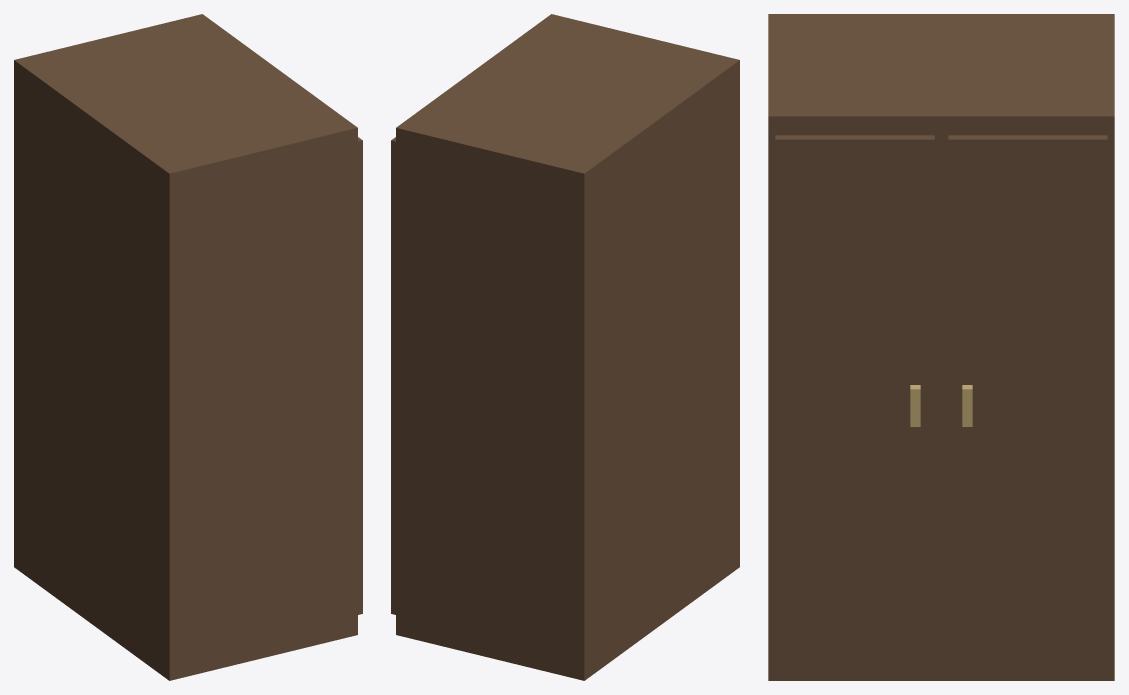
Rendered from prop_wardrobe.fbx.
3 views of the same model, side by side, from view 1: azimuth 30°, elevation 25°; view 2: azimuth 150°, elevation 25°; view 3: azimuth 270°, elevation 25° (orthographic). The views are drawn at different scales.
Visible parts, largest first — view 1: Wardrobe_Body, Door_Left; view 2: Wardrobe_Body, Door_Right; view 3: Door_Left, Door_Right, Wardrobe_Body.
Part boxes in pixels (x1,y1,x2,y2): Wardrobe_Body: (14, 14, 357, 680); Door_Left: (358, 137, 362, 614); Wardrobe_Body: (396, 14, 739, 680); Door_Right: (391, 137, 395, 614); Door_Left: (775, 135, 934, 666); Door_Right: (948, 135, 1107, 666); Wardrobe_Body: (768, 14, 1114, 680).
Size of the model in its own units: 3.83 by 9 by 5.
